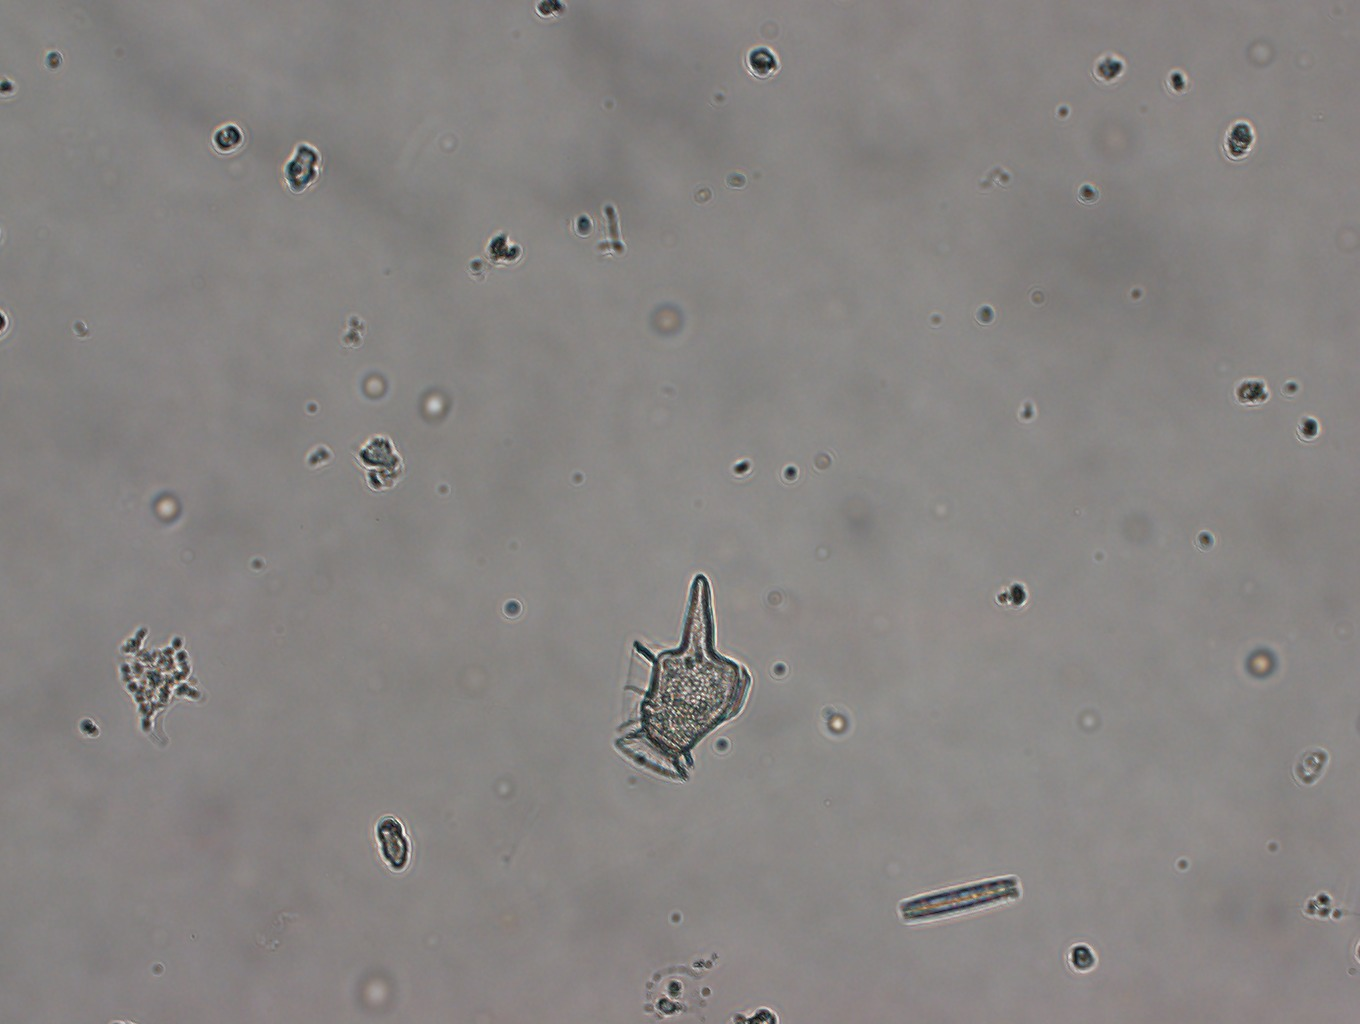dinophysis caudata: (605, 565, 758, 790)
